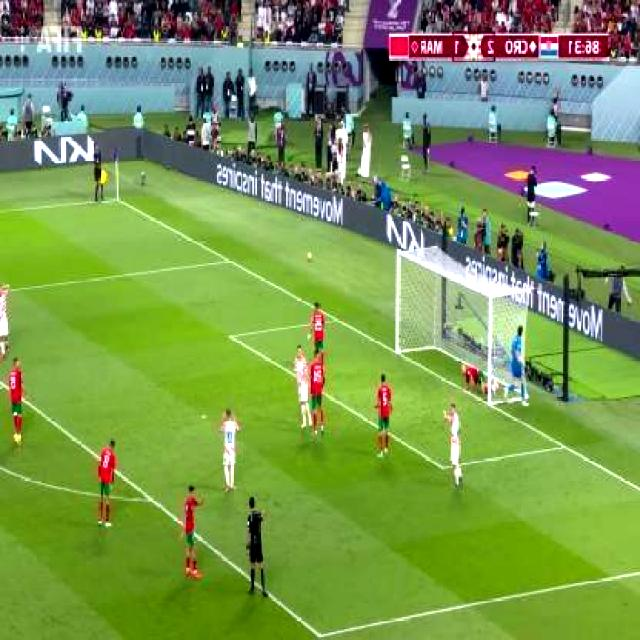bigarea_bottom_inner: (308, 623, 332, 640)
bigarea_top_outter: (218, 251, 237, 271)
bottom_arc_area_intersection: (135, 484, 163, 516)
corner: (109, 192, 125, 206)
smallarea_bottom_inner: (434, 454, 449, 481)
smallarea_bottom_outter: (556, 437, 572, 458)
smallarea_top_inner: (224, 322, 238, 351)
smallarea_top_outter: (328, 311, 343, 331)
top_arc_area_intersection: (0, 375, 8, 397)
